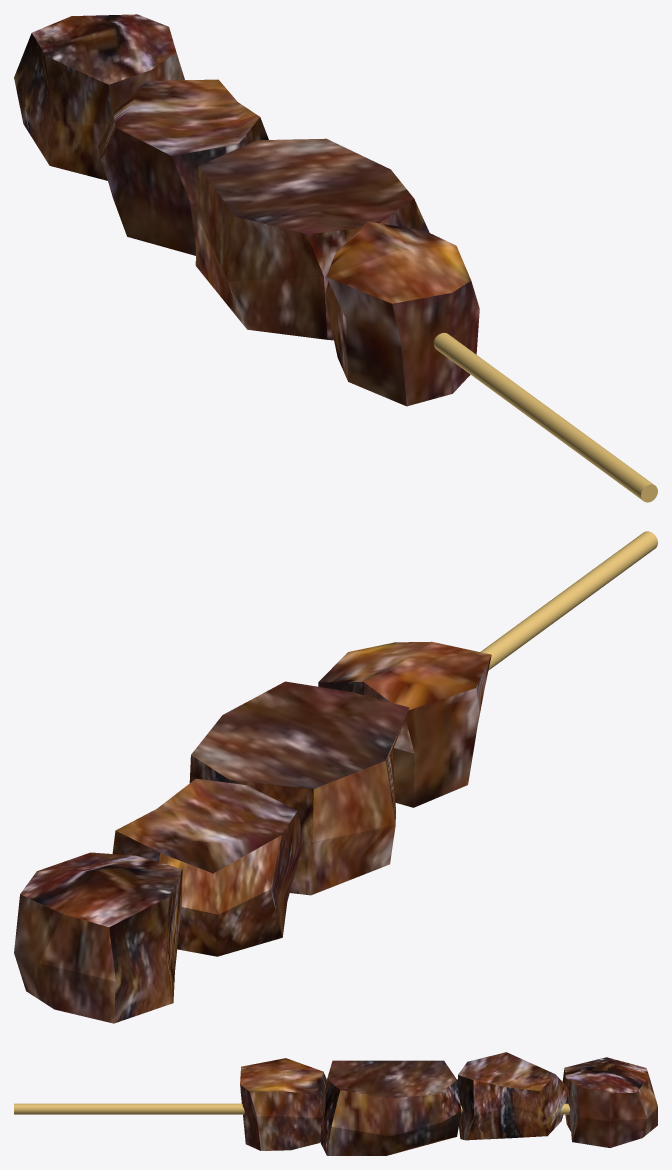
Rendered from muttonsatay4.fbx.
3 renders of one model, top to bottom at view 1: azimuth 30°, elevation 25°; view 2: azimuth 150°, elevation 25°; view 3: azimuth 270°, elevation 25°, orthographic. The views are drawn at different scales.
Visible parts, largest first — view 1: Msatay4piecejoined; view 2: Msatay4piecejoined; view 3: Msatay4piecejoined.
Part boxes in pixels (left/top/right/bottom): Msatay4piecejoined: left=14, top=14, right=657, bottom=502; Msatay4piecejoined: left=14, top=531, right=657, bottom=1023; Msatay4piecejoined: left=14, top=1052, right=657, bottom=1155.
Size of the model in its own units: 153 by 102 by 828.
Materials: 2 (1 with a texture image).
